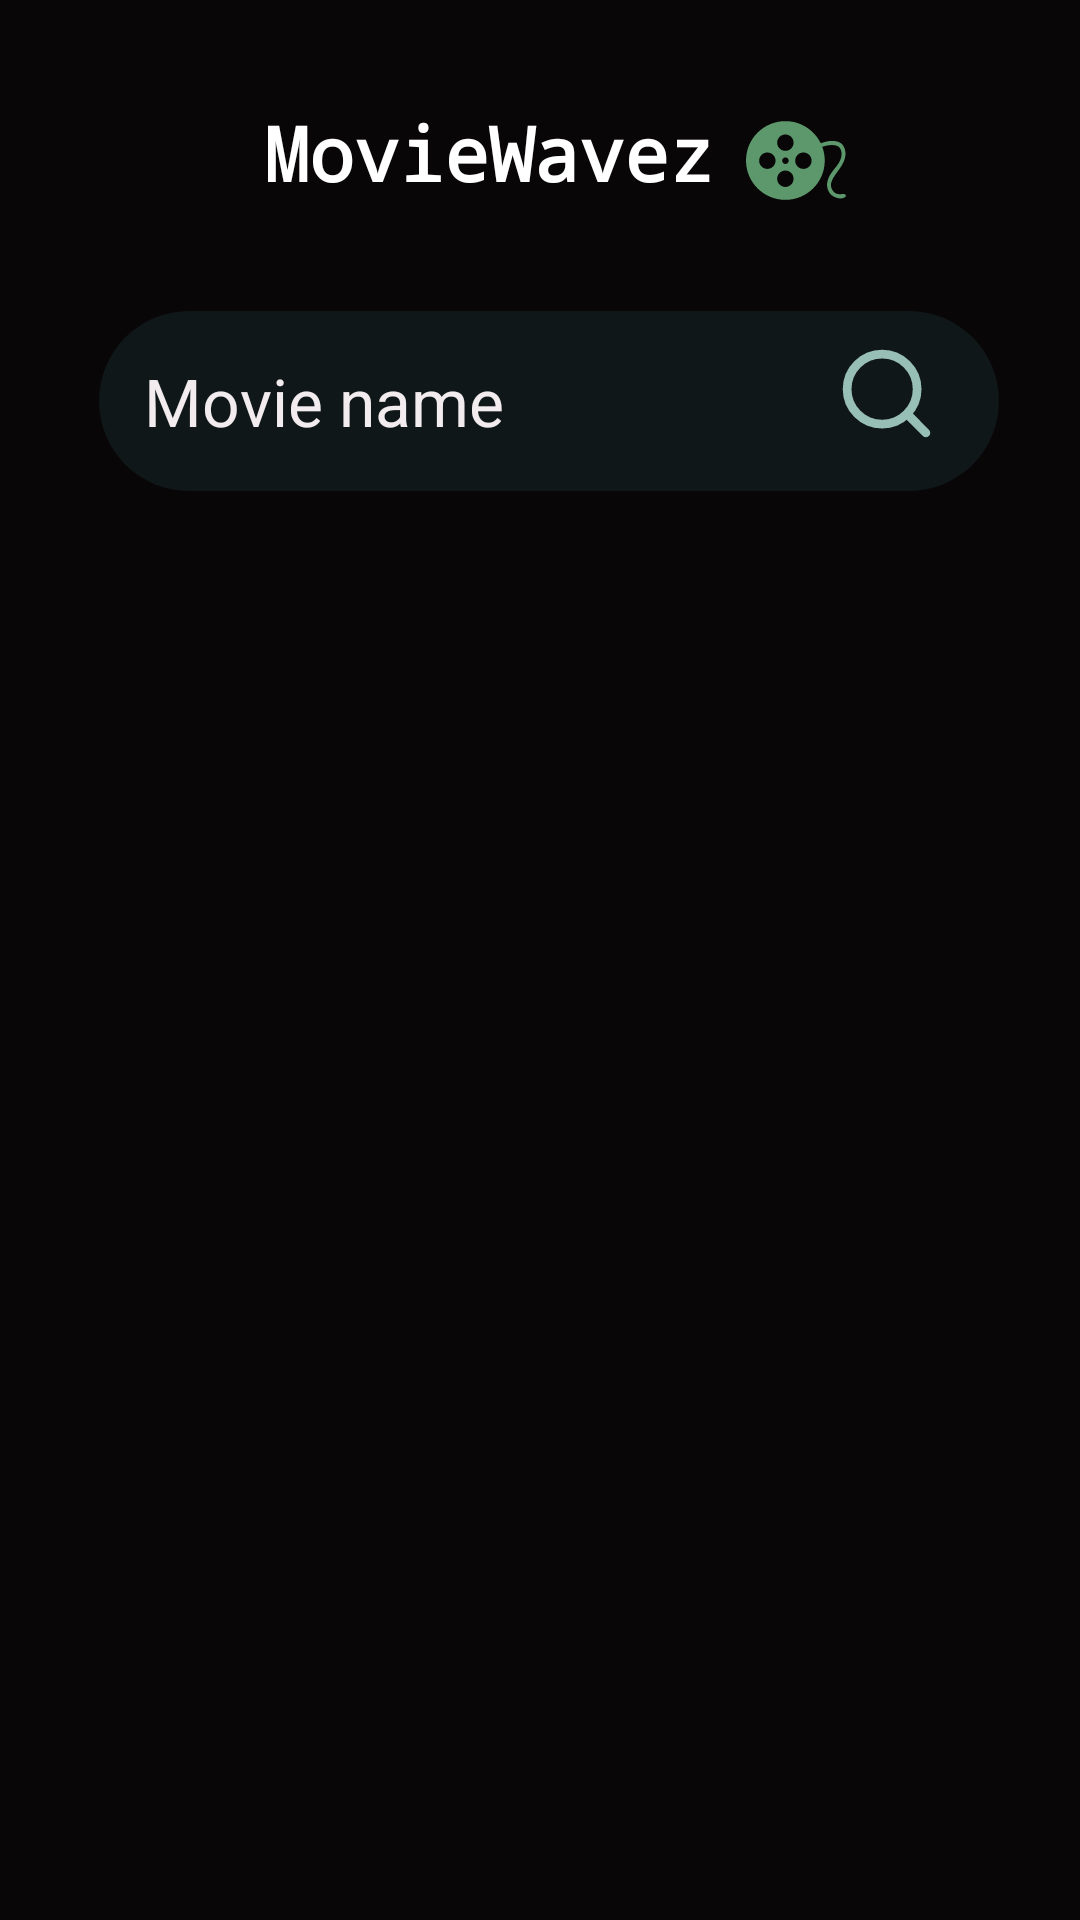

Where to tap for icons on this 1080px x 1920px app screen, as (x=x, y=y):
film: (x=796, y=160)
search: (x=886, y=393)
